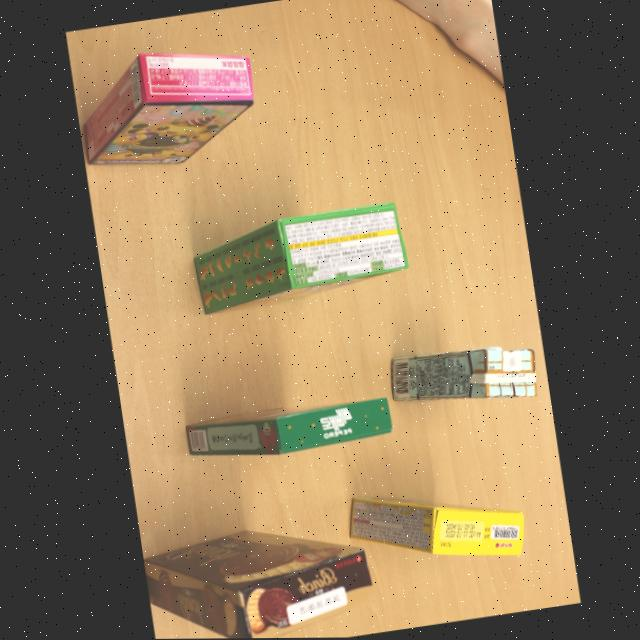box: (142, 533, 372, 639), (193, 203, 407, 314), (84, 53, 252, 164), (185, 399, 391, 456), (348, 499, 523, 557), (391, 348, 535, 401)
